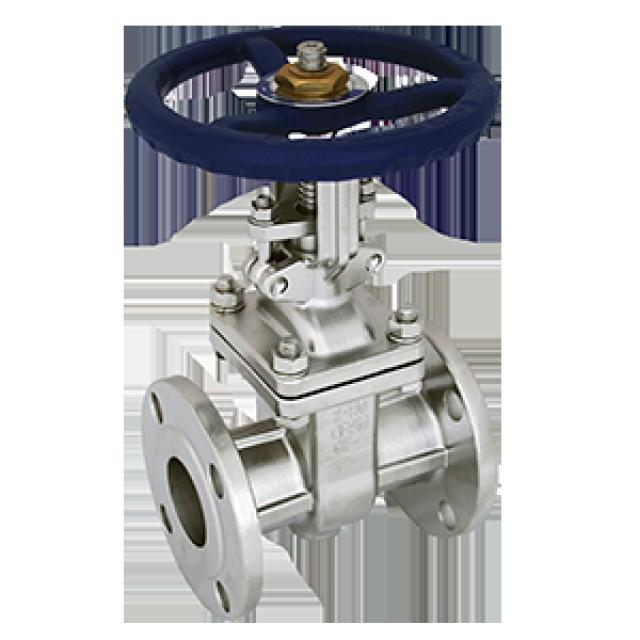Wheel Handle Valve Threaded: (110, 7, 512, 218)
